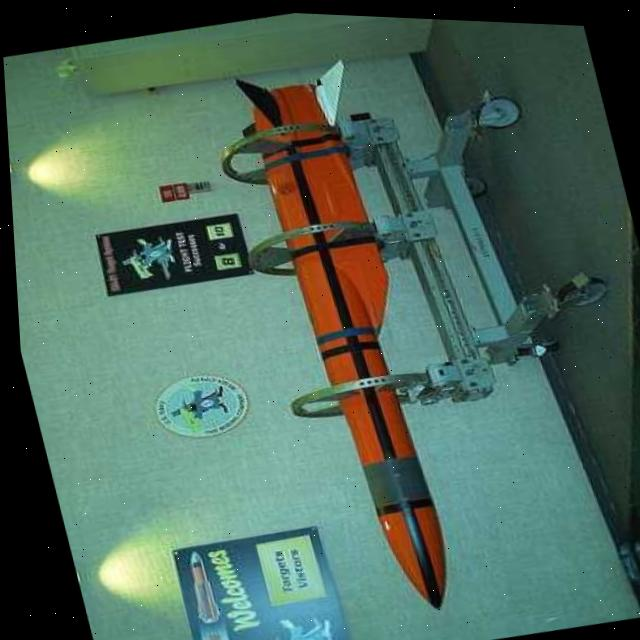missile: (206, 51, 481, 628)
